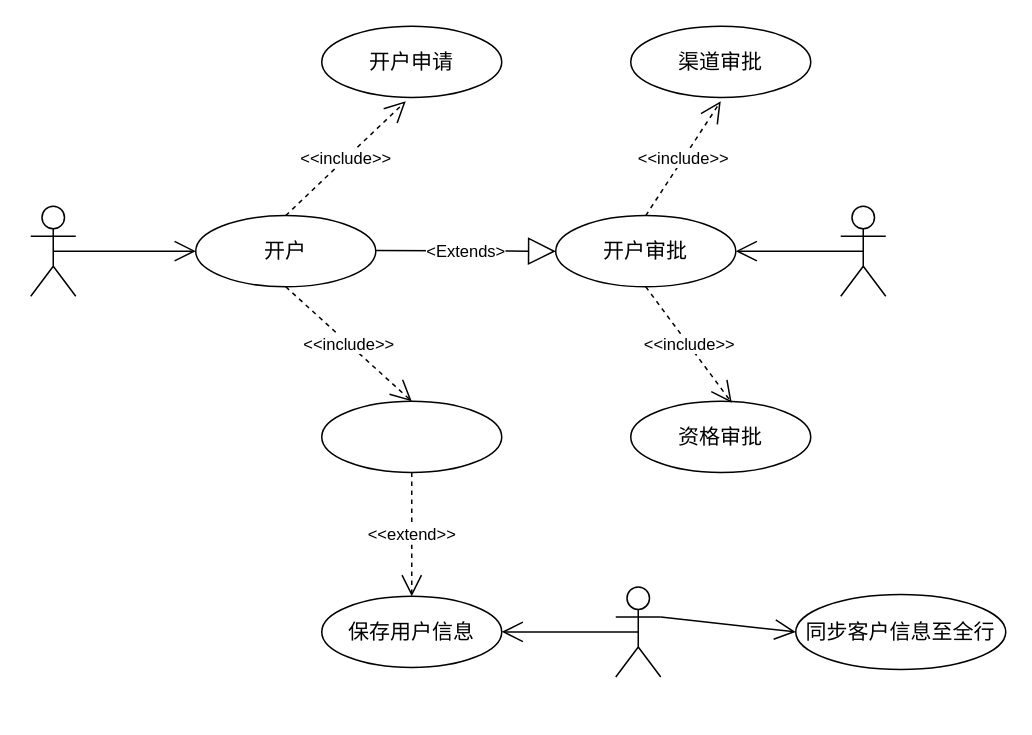
This 1032x735 diagram has some shape labels left out. Each missing label, with the centre of its shape:
"信息管理子系统" belongs at point 637,631.
"借款人" belongs at point 52,250.
"开户结果通知" belongs at point 411,436.
"风控管理员" belongs at point 862,250.
